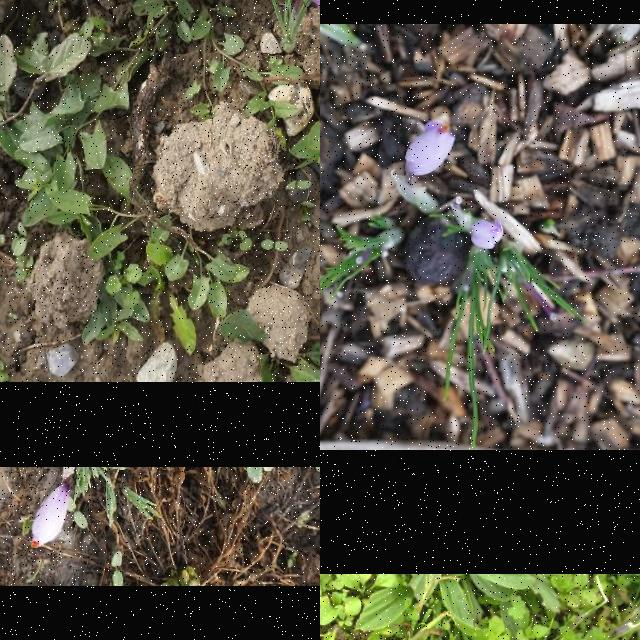flower: (404, 120, 456, 178), (471, 218, 504, 250)
